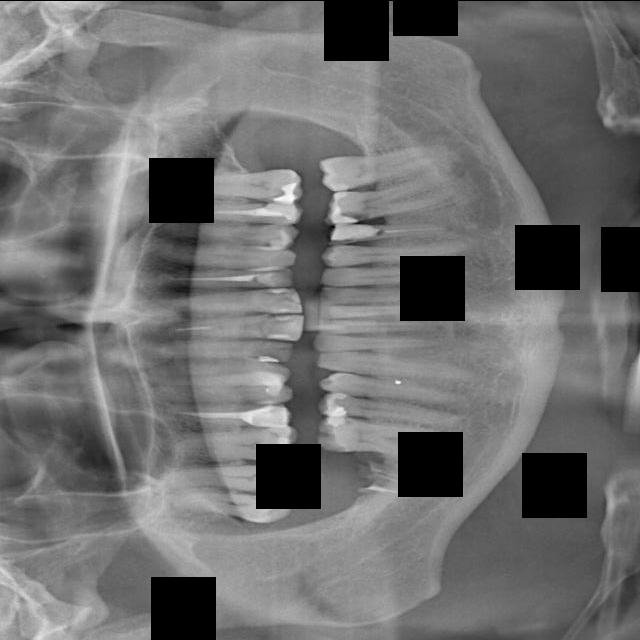3M ESPE Implant: (164, 487, 296, 526)
AGS Medikal Implant: (396, 162, 397, 163)
AMerOss Implant: (316, 169, 459, 230)
Amalgam filling: (151, 463, 304, 496)
Anthogyr Implant: (327, 218, 461, 245)
Bicon Implant: (318, 241, 474, 267)
BioHorizons Implant: (318, 267, 470, 286)
BioLife Implant: (316, 282, 448, 304)
Biomet 3i Implant: (319, 304, 435, 318)
Blue Sky Bio Implant: (315, 319, 436, 334)
Camlog Implant: (312, 334, 445, 352)
Caries: (142, 267, 296, 290)
Composite filling: (316, 348, 476, 380)
Cowellmedi Implant: (315, 368, 469, 412)
Crown: (314, 391, 467, 427)
DENTSPLY Implant: (166, 424, 300, 462)
Dentatus Implant: (313, 412, 459, 470)
Dentis Implant: (401, 484, 403, 484)
Euroteknika Implant: (156, 403, 293, 427)
Filling: (145, 383, 294, 408)
Frontier Implant: (142, 359, 291, 386)
Hiossen Implant: (142, 239, 297, 272)
Implant: (149, 312, 307, 342)
Implant Direct: (139, 334, 298, 363)
Keystone Dental Implant: (147, 285, 305, 313)
MIS Implant: (156, 220, 302, 249)
Mandible: (166, 201, 305, 224)
Maxilla: (171, 166, 305, 203)
